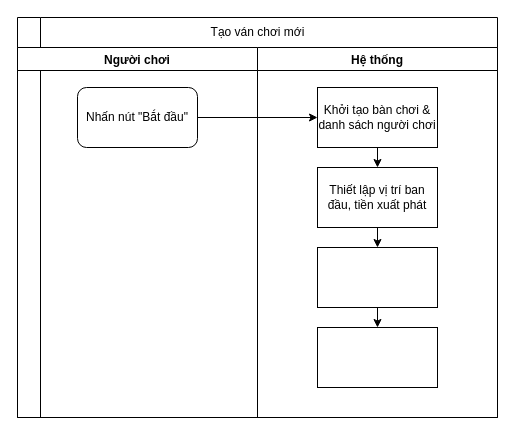
Image size: 515x435. Some labels were removed from this diagram. The centre of each missing label's shape, as x and y in pixels:
"Hiển thị giao diện chơi" goes at pixel 377 357.
"Xác định thứ tự chơi" goes at pixel 377 277.
